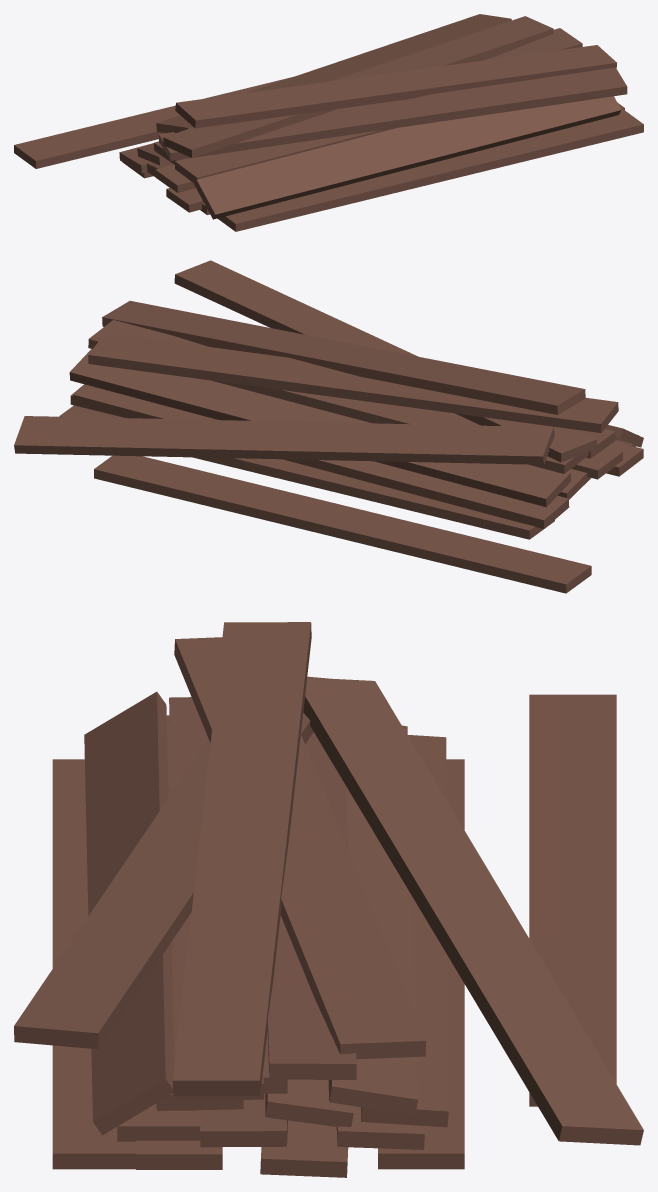
The picture shows the model from 3 angles, top to bottom: view 1: azimuth 30°, elevation 25°; view 2: azimuth 150°, elevation 25°; view 3: azimuth 270°, elevation 25°; orthographic projection. The views are drawn at different scales.
Visible parts, largest first — view 1: mesh_708861228, mesh_268260862, mesh_294890801, mesh_75019549, mesh_979706915, mesh_2021376920, mesh_565967322, mesh_1859142220, mesh_695272068, mesh_840447443, mesh_124393089, mesh_1923315885 (+1 smaller); view 2: mesh_565967322, mesh_2021376920, mesh_979706915, mesh_268260862, mesh_1505795222, mesh_294890801, mesh_1923315885, mesh_1879373694, mesh_695272068, mesh_840447443, mesh_124393089, mesh_1859142220; view 3: mesh_268260862, mesh_565967322, mesh_2021376920, mesh_979706915, mesh_294890801, mesh_708861228, mesh_75019549, mesh_1505795222, mesh_695272068, mesh_1923315885, mesh_1879373694, mesh_1859142220 (+7 smaller).
Part boxes in pixels (x1,y1,x2,y2): mesh_708861228: (194,96,621,219); mesh_268260862: (175,45,616,128); mesh_294890801: (158,67,627,160); mesh_75019549: (217,109,643,231); mesh_979706915: (163,16,553,157); mesh_2021376920: (14,77,292,168); mesh_565967322: (156,14,511,132); mesh_1859142220: (175,128,396,183); mesh_695272068: (154,28,582,164); mesh_840447443: (155,164,195,192); mesh_124393089: (166,188,203,212); mesh_1923315885: (119,143,153,173); mesh_565967322: (14,416,554,464); mesh_2021376920: (94,455,591,593); mesh_979706915: (88,333,618,432); mesh_268260862: (102,300,585,414); mesh_1505795222: (69,349,571,507); mesh_294890801: (174,260,597,462); mesh_1923315885: (73,384,569,528); mesh_1879373694: (59,405,554,539); mesh_695272068: (88,320,588,473); mesh_840447443: (571,447,622,479); mesh_124393089: (606,441,643,476); mesh_1859142220: (577,429,615,458); mesh_268260862: (172,622,311,1095); mesh_565967322: (303,677,643,1145); mesh_2021376920: (529,694,616,1106); mesh_979706915: (174,637,426,1059); mesh_294890801: (14,676,328,1049); mesh_708861228: (84,691,174,1135); mesh_75019549: (52,759,135,1169); mesh_1505795222: (328,725,418,1115); mesh_695272068: (267,732,356,1079); mesh_1923315885: (361,735,448,1127); mesh_1879373694: (378,759,464,1169); mesh_1859142220: (169,697,263,1100).
Bounding box in the file's own units: 519 × 86.58 × 290.
